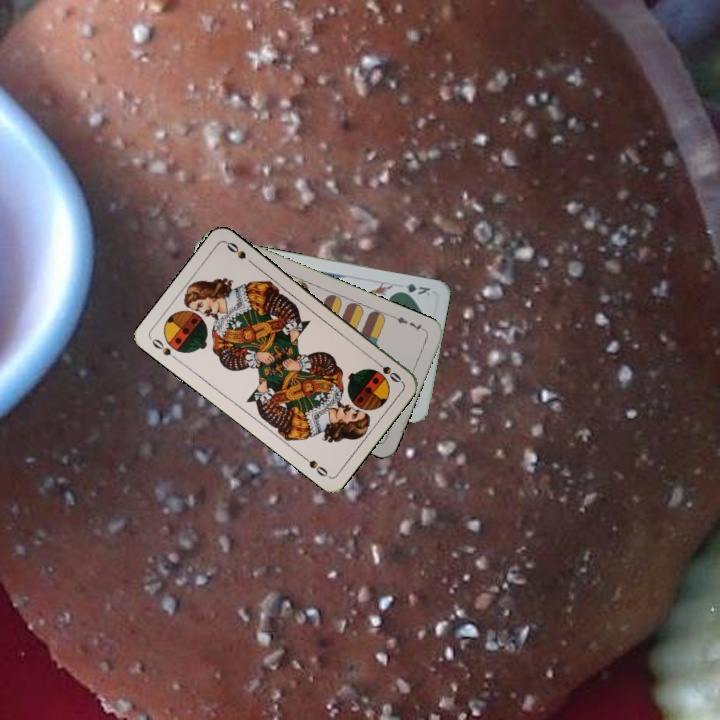E7: (390, 312, 429, 334)
GK: (393, 279, 433, 299)
SO: (148, 334, 182, 364), (369, 356, 404, 385)
